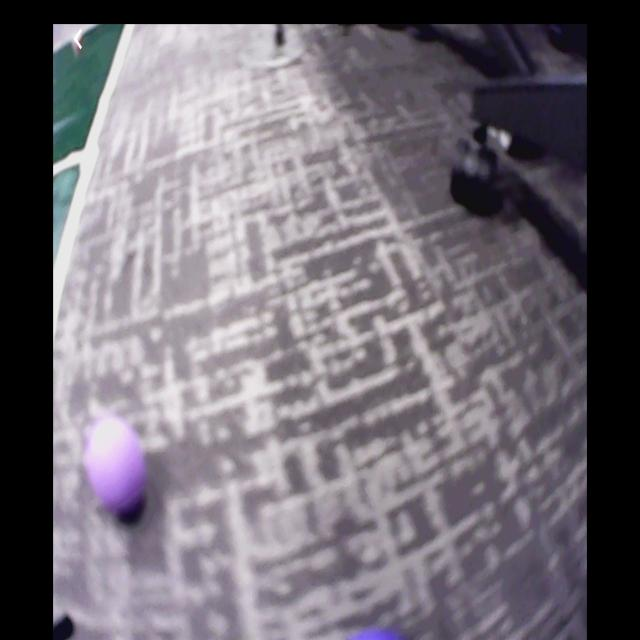ball: (92, 417, 145, 516), (346, 618, 415, 640)
